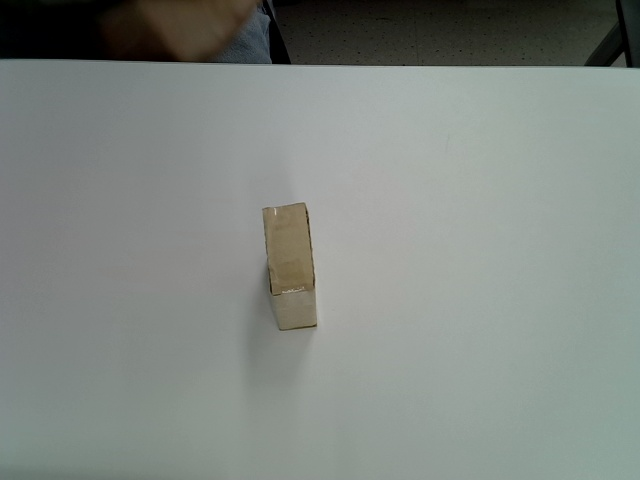normal: (261, 202, 320, 332)
